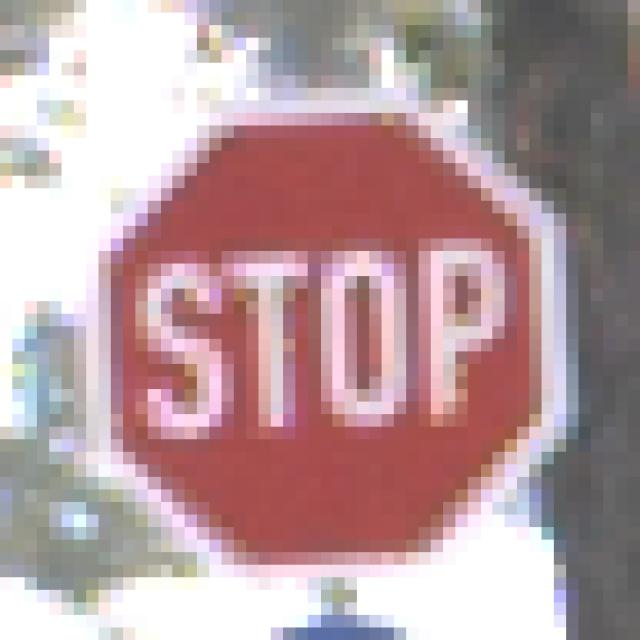STOP: (75, 77, 579, 579)
